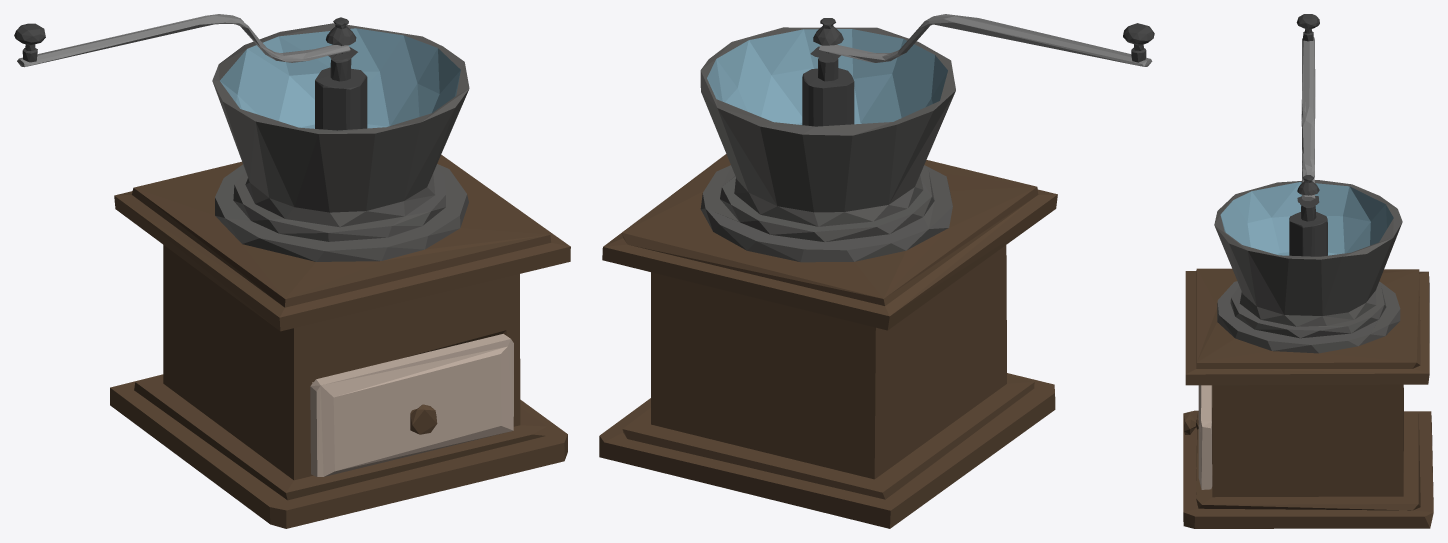
Rendered from CoffeeGrinder.fbx.
The picture shows the model from 3 angles, left to right: view 1: azimuth 30°, elevation 25°; view 2: azimuth 150°, elevation 25°; view 3: azimuth 270°, elevation 25°; orthographic projection. The views are drawn at different scales.
Parts seen in each view (by area): view 1: CoffeeGrinderLowPoly, CoffeeGrinderPart02LowPoly, CoffeeGrinderPart01LowPoly; view 2: CoffeeGrinderLowPoly, CoffeeGrinderPart01LowPoly; view 3: CoffeeGrinderLowPoly, CoffeeGrinderPart01LowPoly, CoffeeGrinderPart02LowPoly.
Part boxes in pixels (x1=…): CoffeeGrinderLowPoly: x1=110, y1=23, x2=570, y2=528; CoffeeGrinderPart02LowPoly: x1=310, y1=334, x2=513, y2=476; CoffeeGrinderPart01LowPoly: x1=14, y1=14, x2=367, y2=130; CoffeeGrinderLowPoly: x1=599, y1=27, x2=1057, y2=528; CoffeeGrinderPart01LowPoly: x1=802, y1=14, x2=1154, y2=126; CoffeeGrinderLowPoly: x1=1183, y1=180, x2=1433, y2=528; CoffeeGrinderPart01LowPoly: x1=1289, y1=14, x2=1327, y2=256; CoffeeGrinderPart02LowPoly: x1=1184, y1=385, x2=1212, y2=489.
Bounding box in the file's own units: 29.35 × 28.49 × 18.46.
